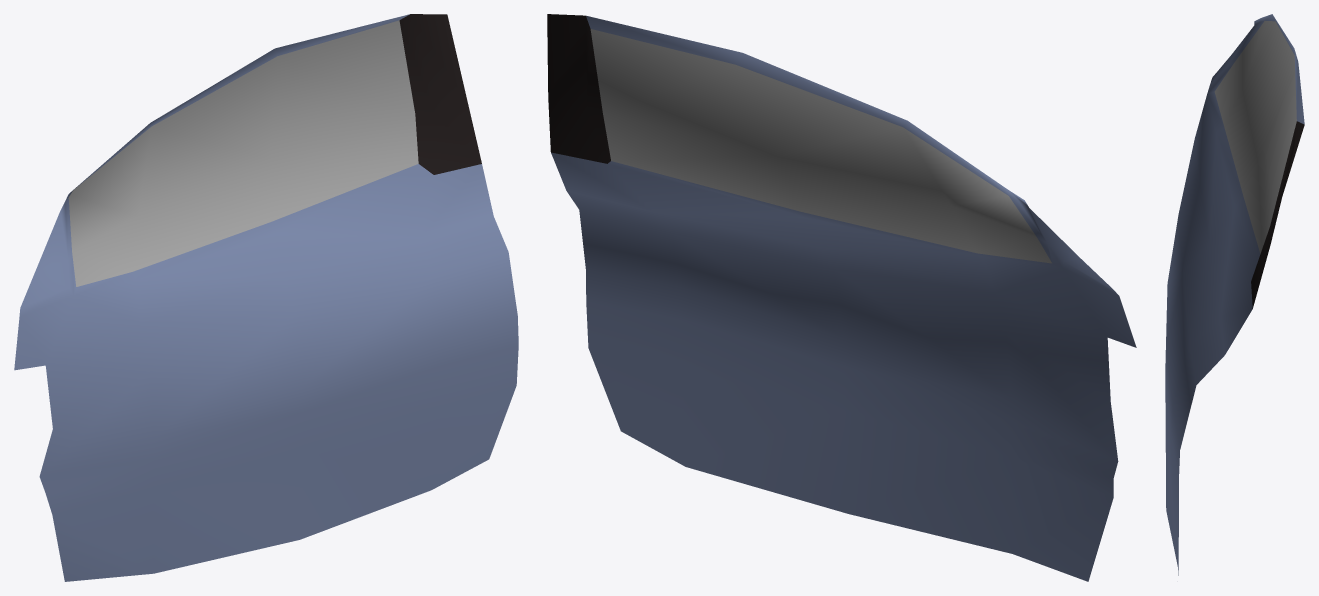
File: porte.obj
The picture shows the model from 3 angles, left to right: view 1: azimuth 30°, elevation 25°; view 2: azimuth 150°, elevation 25°; view 3: azimuth 270°, elevation 25°; orthographic projection. The views are drawn at different scales.
Parts seen in each view (by area): view 1: Cube.003; view 2: Cube.003; view 3: Cube.003.
Boxes of the visible parts, x1,y1,x2,y2 form: Cube.003: [14, 14, 518, 581]; Cube.003: [547, 14, 1136, 581]; Cube.003: [1165, 14, 1304, 575].
Bounding box in the file's own units: 3.05 × 2.59 × 0.6832.
